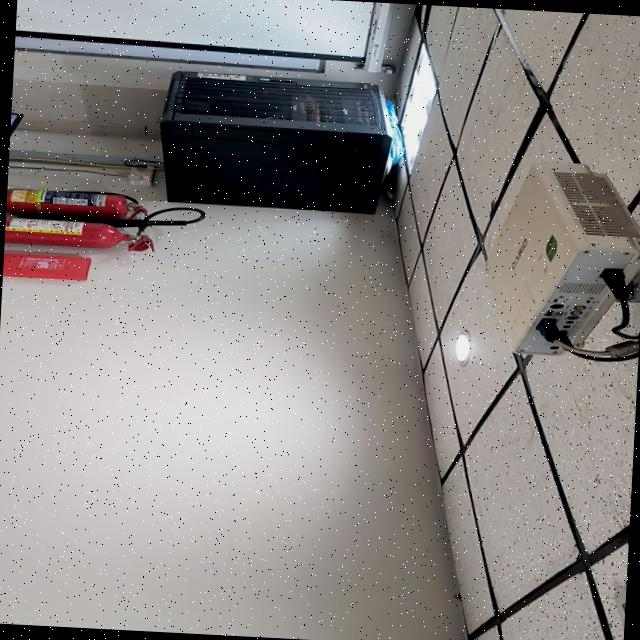Fire Extinguisher: (4, 218, 153, 251), (5, 188, 146, 219)
Light: (400, 45, 436, 173), (455, 330, 473, 366)
Projector: (486, 162, 640, 358)
